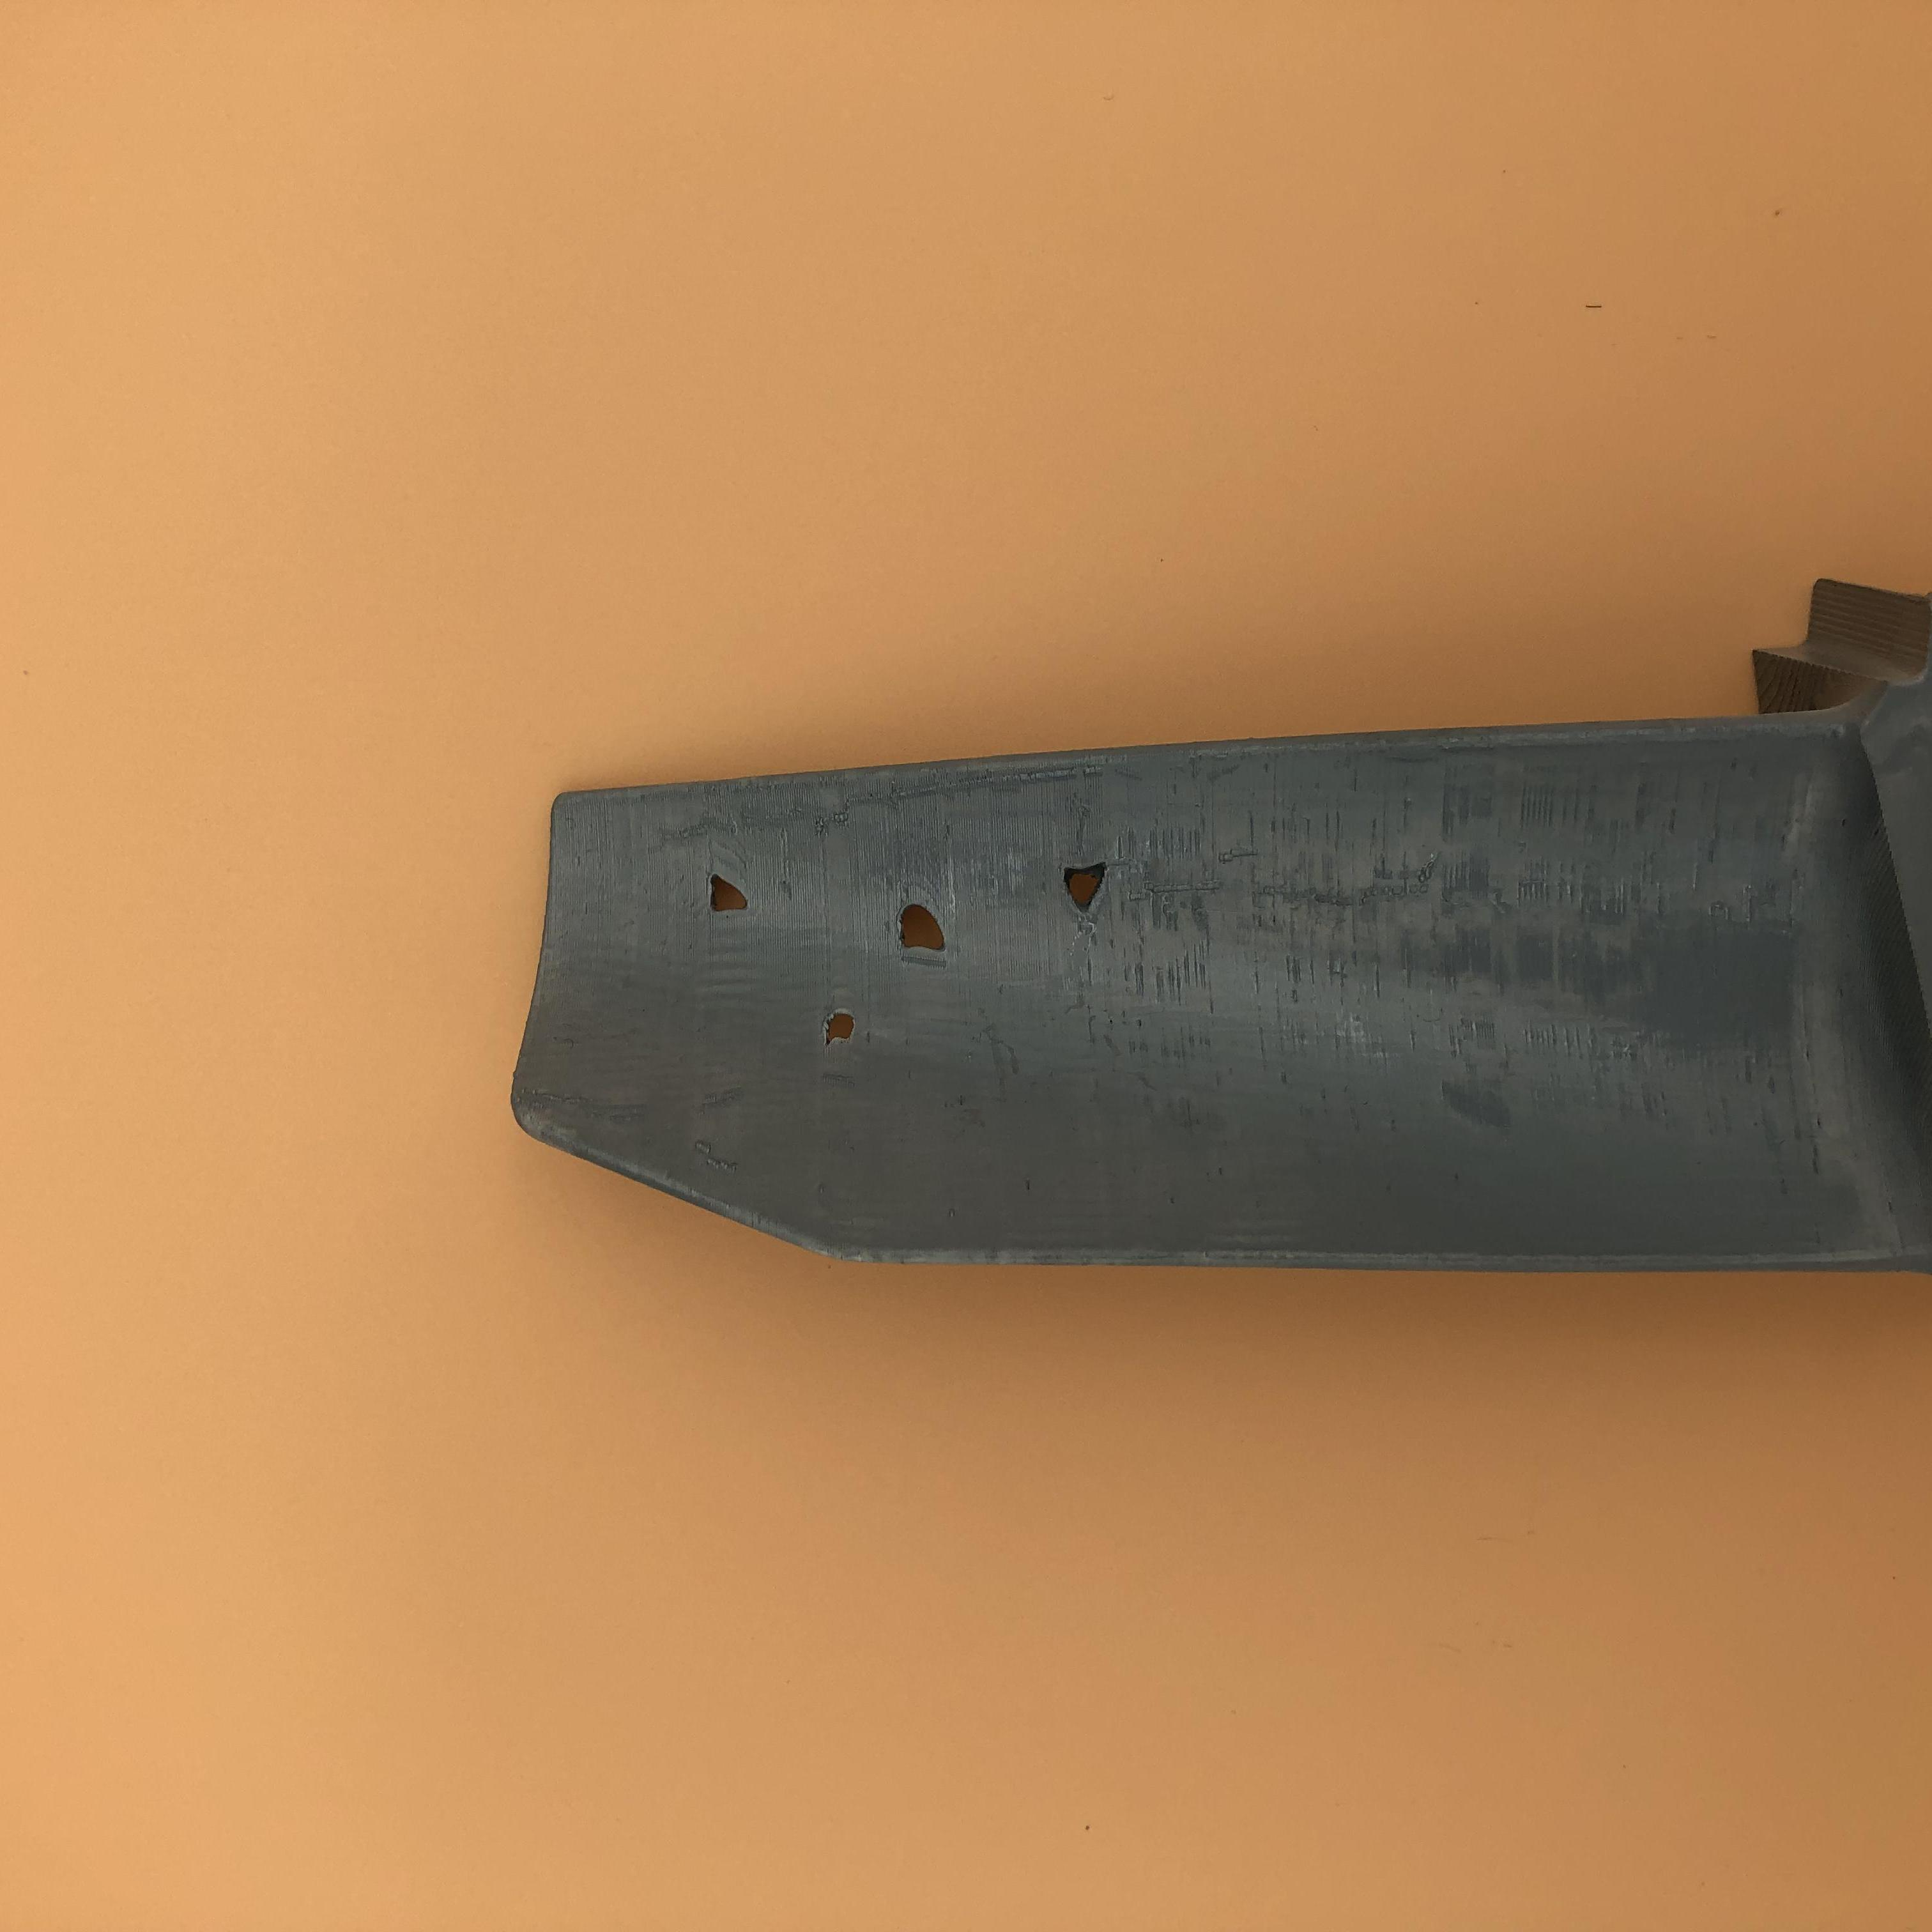breakdown: (695, 862, 1116, 1053)
